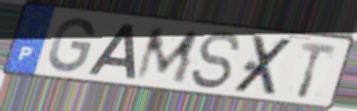A: (85, 22, 138, 81)
G: (45, 16, 98, 74)
M: (132, 27, 202, 86)
S: (188, 29, 243, 91)
T: (296, 40, 339, 100)
X: (230, 34, 298, 97)
